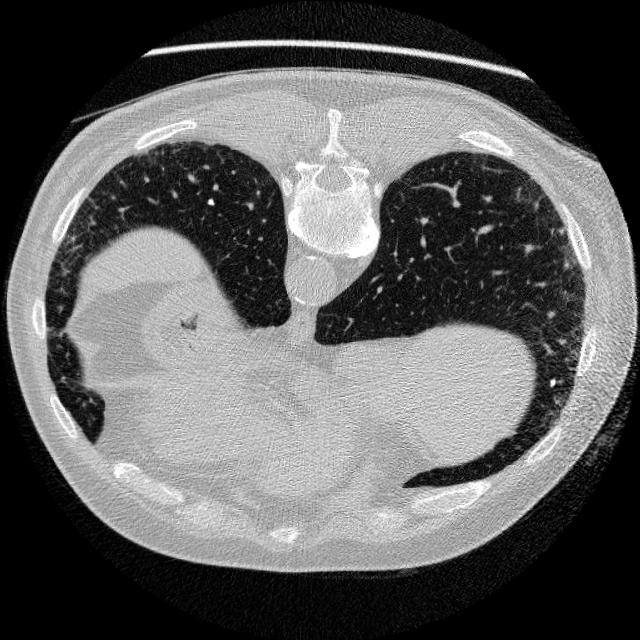nodule: (543, 373, 563, 393)
